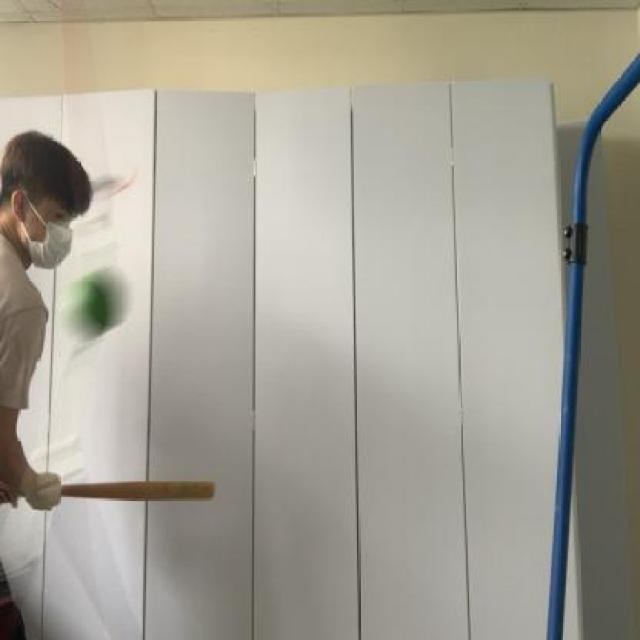baseball: (62, 256, 140, 358)
